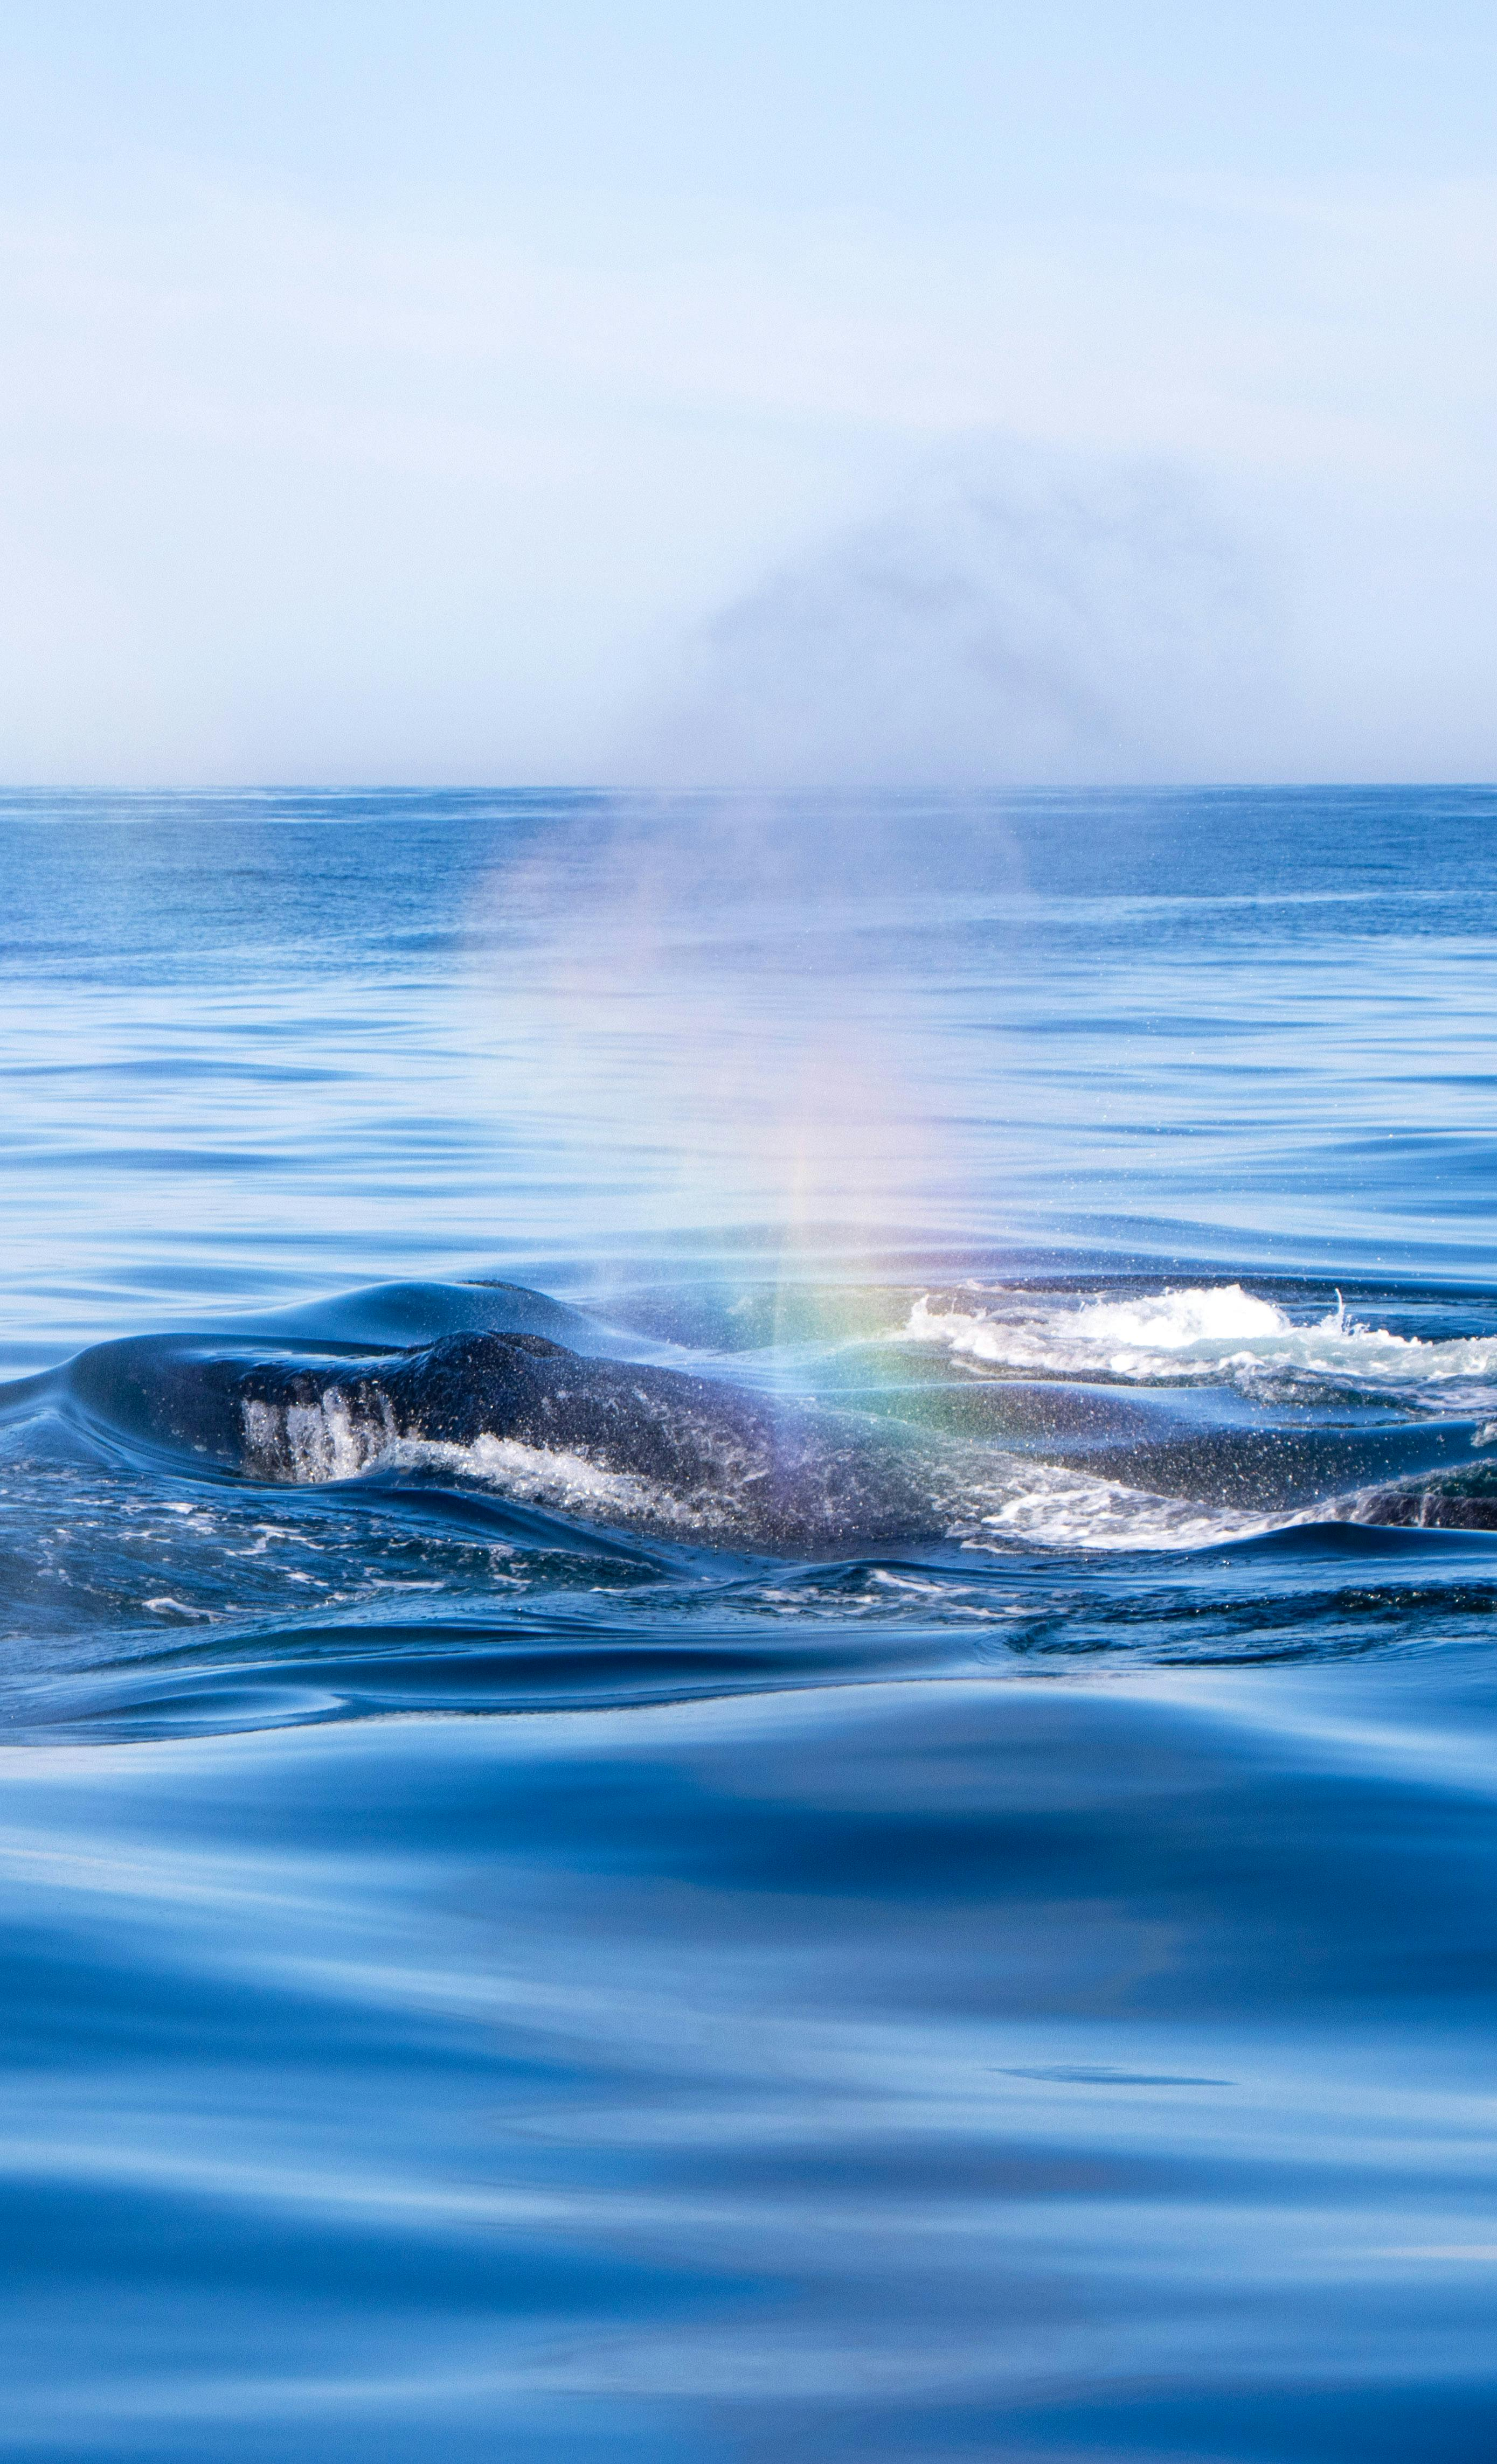whale: (143, 1318, 1486, 1547)
